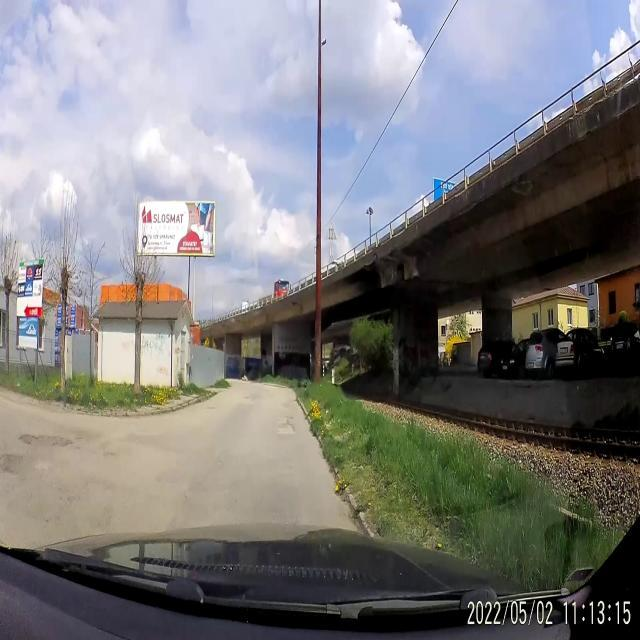Pothole: (17, 429, 75, 449), (0, 449, 36, 478), (272, 406, 300, 442), (242, 390, 251, 402), (207, 406, 217, 411), (217, 460, 225, 466)
